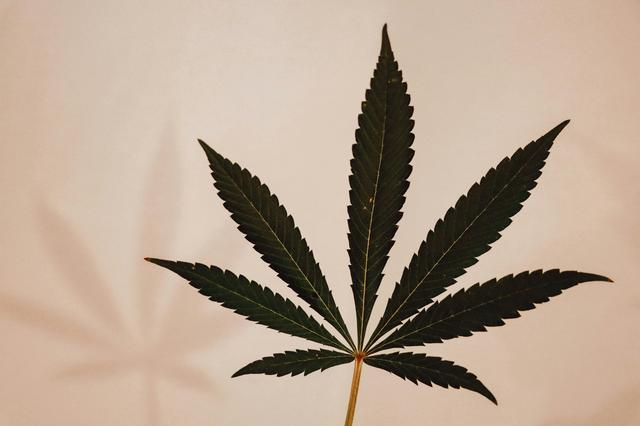Marijuana Bud: (139, 16, 619, 403)
